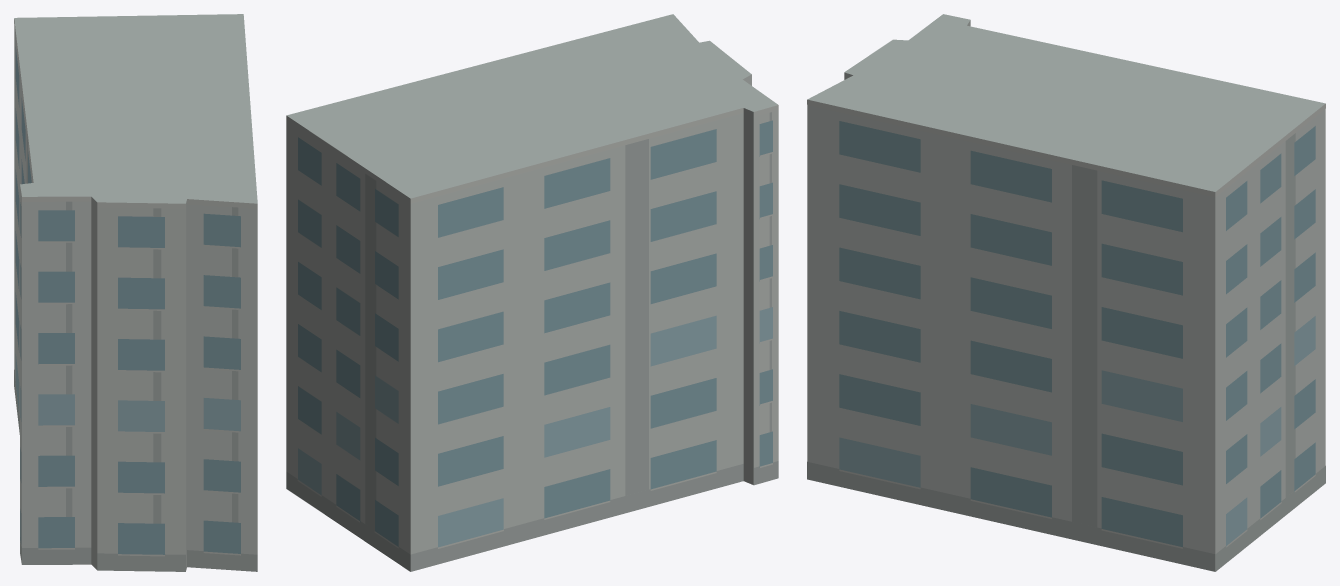
The model's file is survey-upis-32618620.glb.
The picture shows the model from 3 angles, left to right: view 1: azimuth 30°, elevation 25°; view 2: azimuth 150°, elevation 25°; view 3: azimuth 270°, elevation 25°; orthographic projection. The views are drawn at different scales.
Parts seen in each view (by area): view 1: survey-upis-32618620.tmp; view 2: survey-upis-32618620.tmp; view 3: survey-upis-32618620.tmp.
Part boxes in pixels (x1,y1,x2,y2): survey-upis-32618620.tmp: (14, 14, 257, 571); survey-upis-32618620.tmp: (286, 14, 778, 571); survey-upis-32618620.tmp: (807, 14, 1325, 571).
Size of the model in its own units: 17.6 by 17.5 by 21.66.
